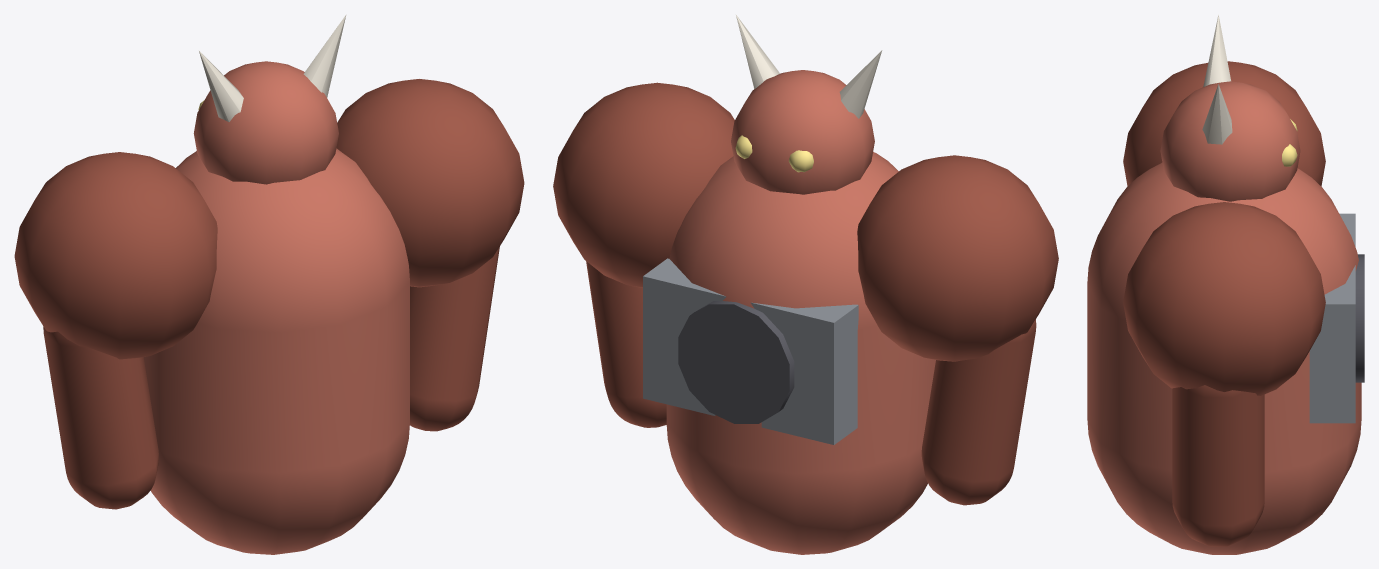
File: boss_body.glb
3 views of the same model, side by side, from view 1: azimuth 30°, elevation 25°; view 2: azimuth 150°, elevation 25°; view 3: azimuth 270°, elevation 25° (orthographic). The views are drawn at different scales.
Parts seen in each view (by area): view 1: boss_body; view 2: boss_body; view 3: boss_body.
Boxes of the visible parts, bbox=[...] form: boss_body: bbox=[14, 14, 524, 554]; boss_body: bbox=[553, 15, 1058, 554]; boss_body: bbox=[1087, 14, 1364, 554].
Bounding box in the file's own units: 1.8 × 1.83 × 0.93.
